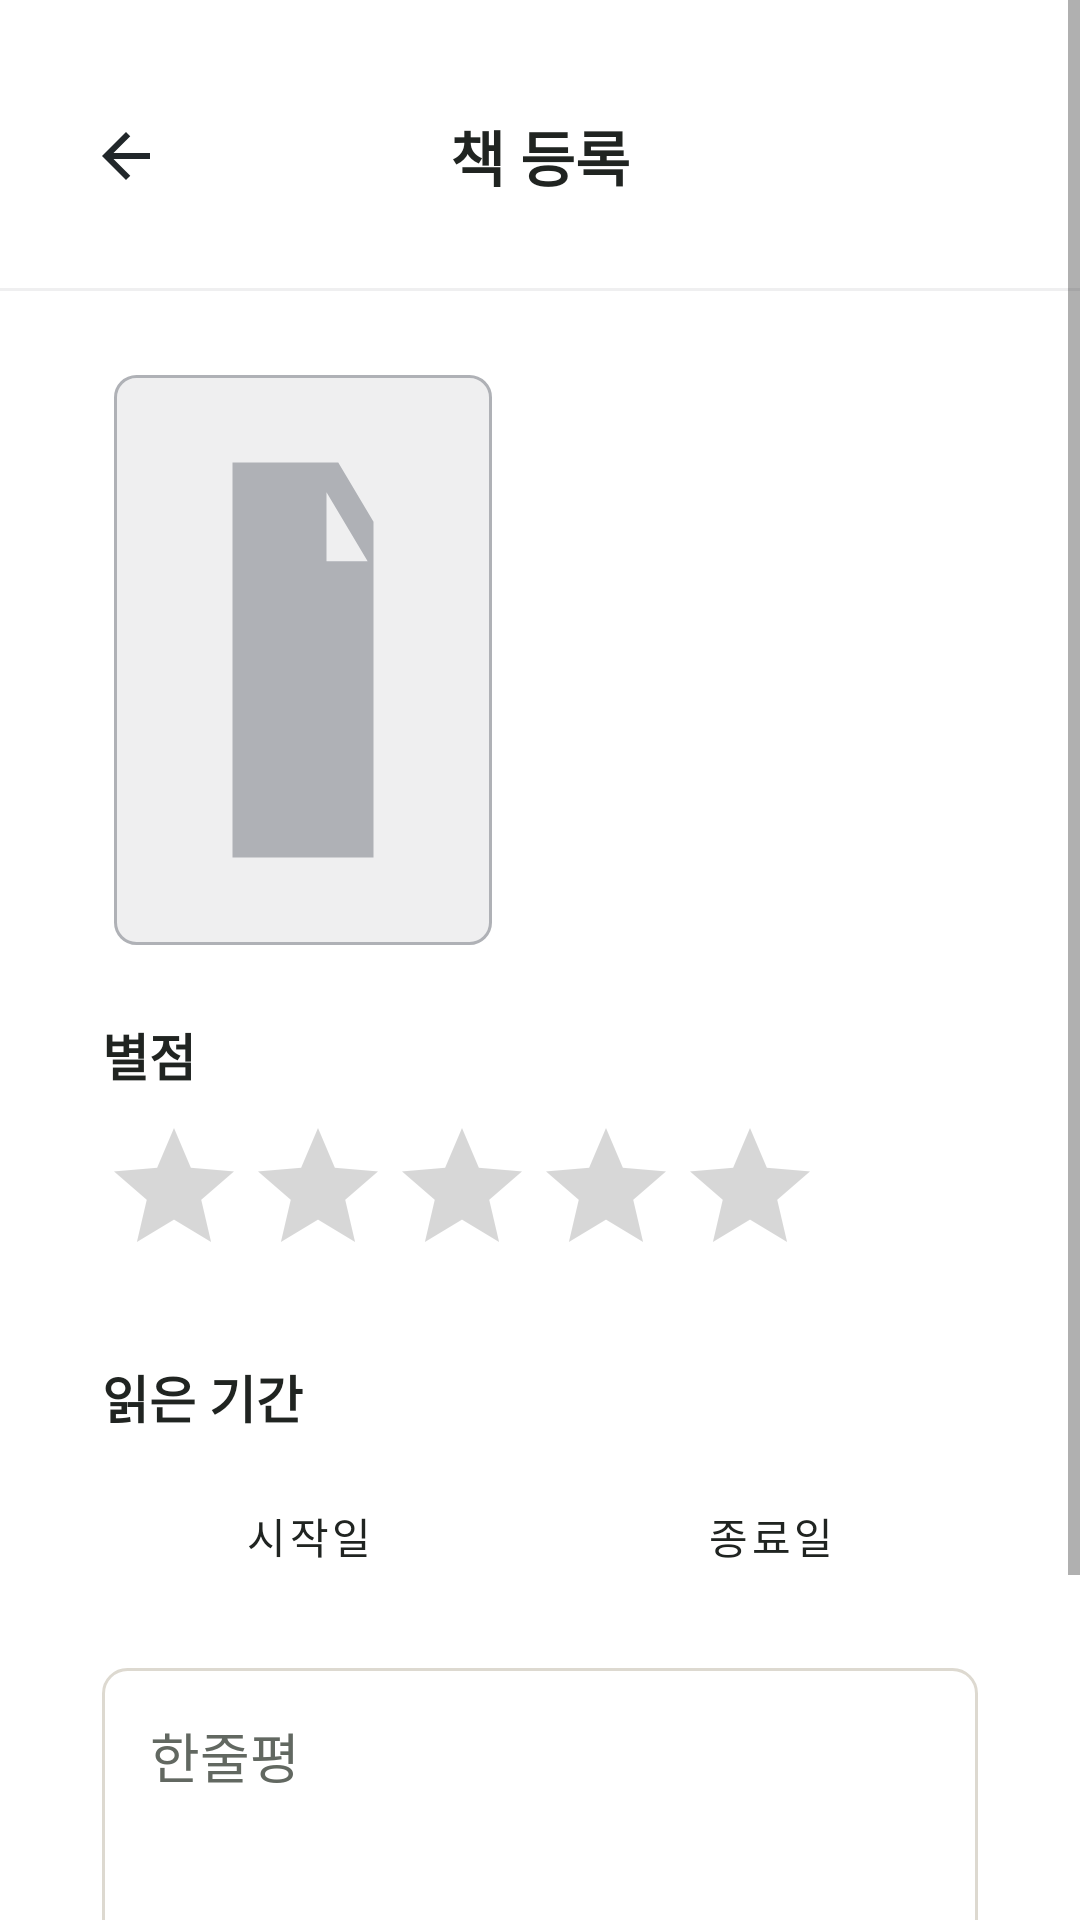

Icon click points for this 1080x1920 phone screenshot, format [x,y]:
뒤로가기: [126,156]
